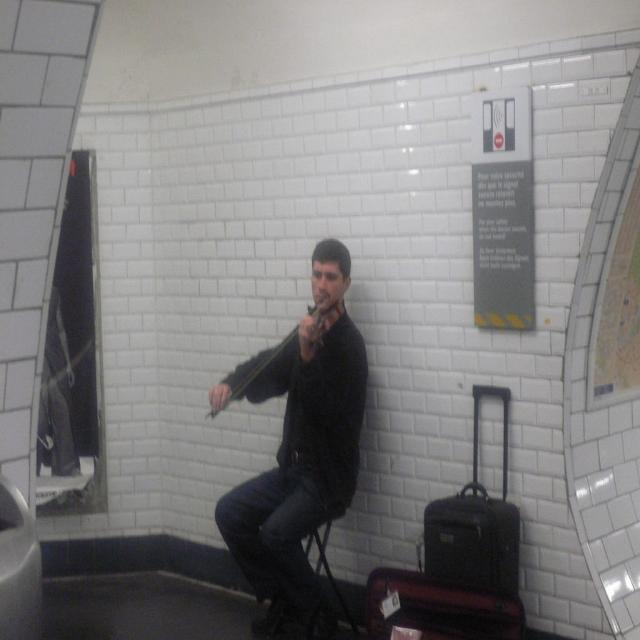violin: (301, 292, 348, 354)
